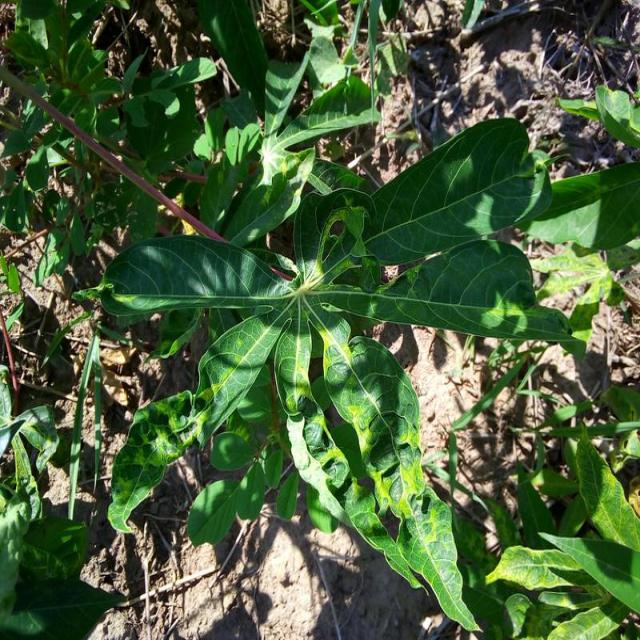cassava leaf: (358, 115, 554, 267)
